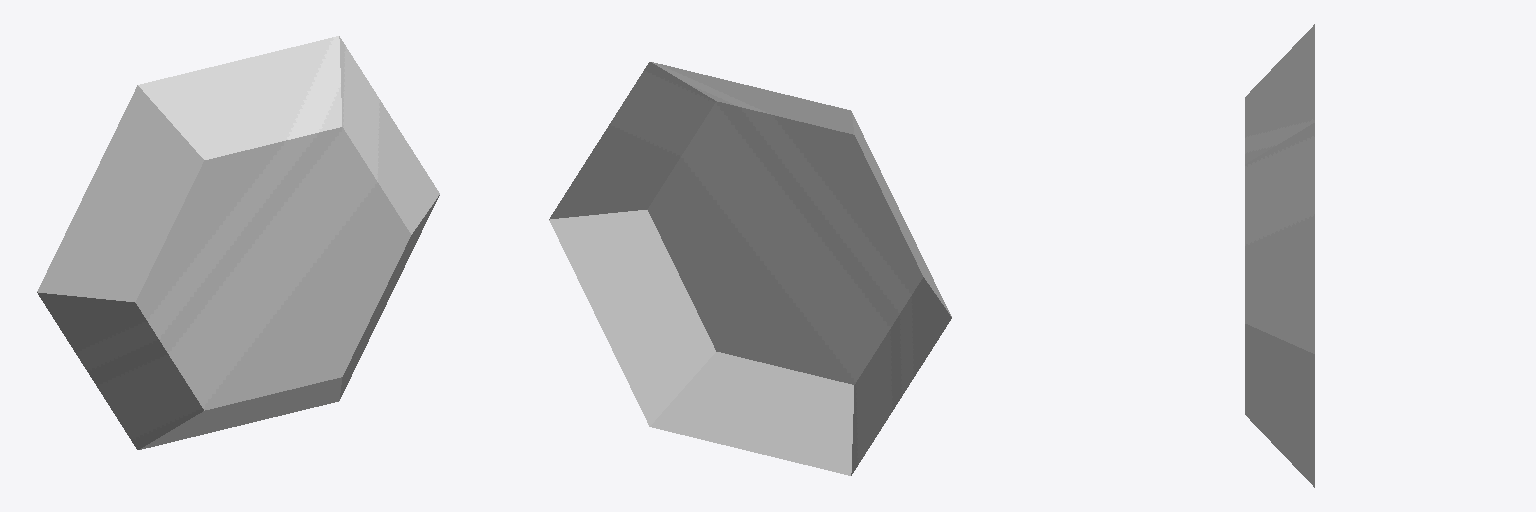
3 renders of one model, left to right at view 1: azimuth 30°, elevation 25°; view 2: azimuth 150°, elevation 25°; view 3: azimuth 270°, elevation 25°, orthographic.
Visible parts, largest first — view 1: hex; view 2: hex; view 3: hex.
Part boxes in pixels (x1,y1,x2,y2): hex: (37, 36, 439, 449); hex: (549, 62, 951, 475); hex: (1245, 24, 1314, 487).
Bounding box in the file's own units: 2 × 1.73 × 0.3.
Materials: 1 (1 with a texture image).